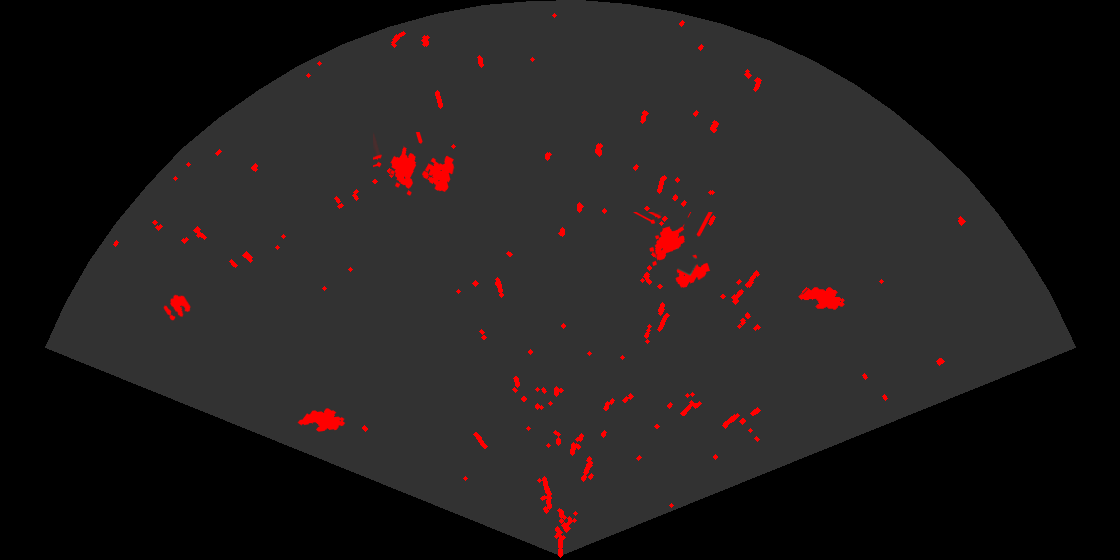AUV: (296, 407, 347, 433), (797, 286, 846, 311)
ball: (162, 293, 192, 322)
cage: (632, 212, 714, 289), (373, 132, 456, 197)
